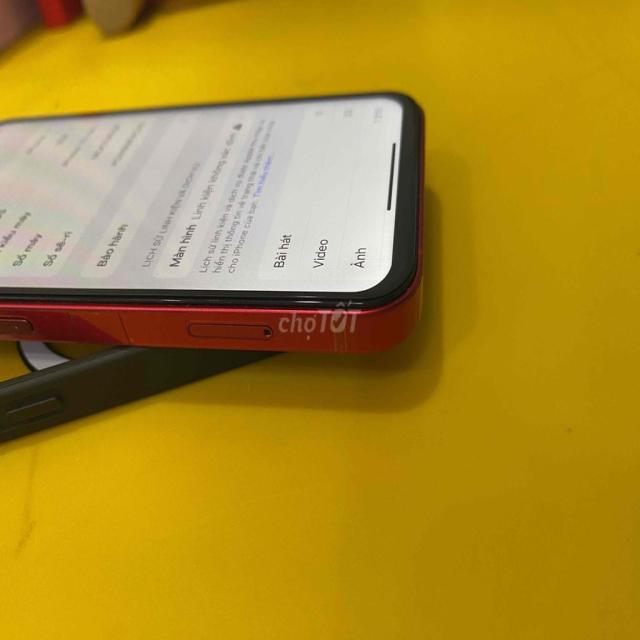gen_12_13: (2, 84, 432, 361)
